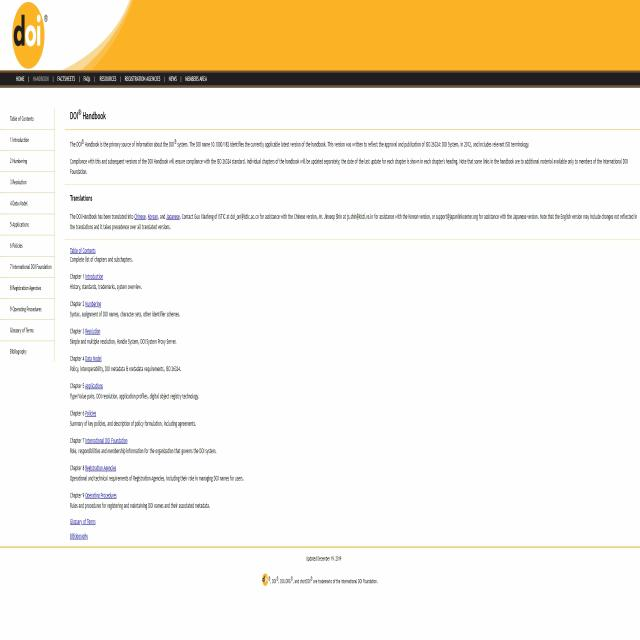tab-bar: (12, 69, 210, 86)
